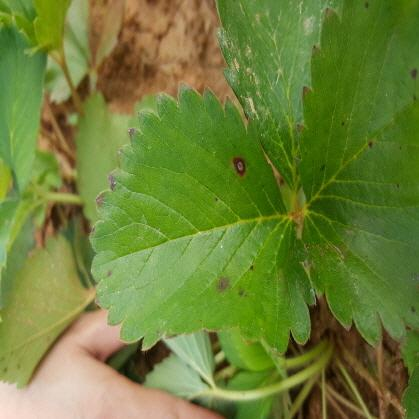Leaf Spot: (88, 82, 318, 356), (292, 0, 418, 349)
